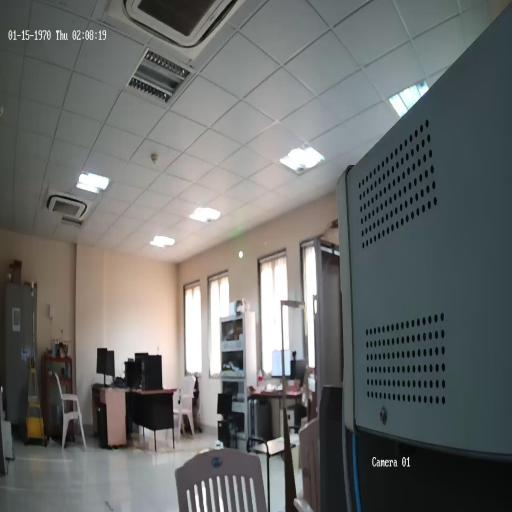laser: (238, 249, 243, 259)
